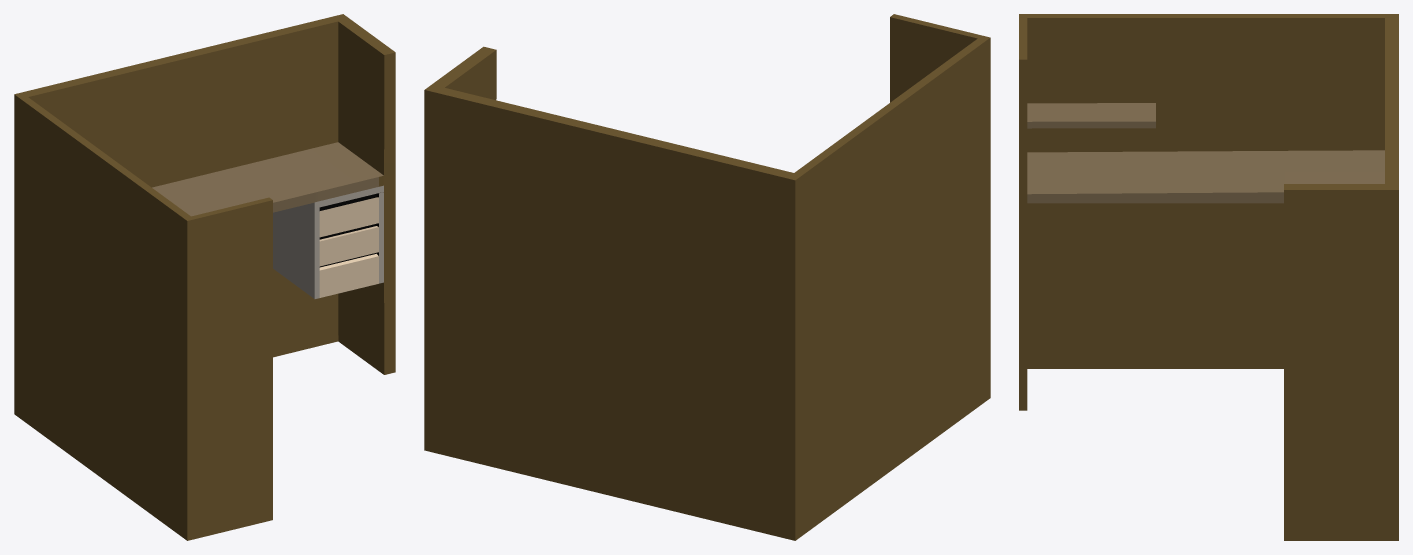
File: OfficeDesk.fbx
3 renders of one model, left to right at view 1: azimuth 30°, elevation 25°; view 2: azimuth 150°, elevation 25°; view 3: azimuth 270°, elevation 25°, orthographic. The views are drawn at different scales.
Visible parts, largest first — view 1: polySurface11, polySurface13, polySurface9, polySurface7, polySurface20, polySurface5, polySurface6, polySurface3; view 2: polySurface13, polySurface11, polySurface7, polySurface18, polySurface9; view 3: polySurface11, polySurface7, polySurface22, polySurface9, polySurface23, polySurface13.
Boxes of the visible parts, x1,y1,x2,y2 form: polySurface11: (20,97,190,537); polySurface13: (14,17,338,418); polySurface9: (183,197,272,540); polySurface7: (332,14,395,374); polySurface20: (152,142,383,216); polySurface5: (319,192,383,297); polySurface6: (273,202,314,298); polySurface3: (314,185,383,298); polySurface13: (437,88,802,540); polySurface11: (794,38,986,535); polySurface7: (424,46,496,453); polySurface18: (890,17,977,102); polySurface9: (890,14,990,400); polySurface11: (1027,14,1384,368); polySurface7: (1284,184,1398,540); polySurface22: (1027,150,1384,203); polySurface9: (1019,14,1027,410); polySurface23: (1027,103,1155,128); polySurface13: (1385,14,1398,183).
Bounding box in the file's own units: 2.22 × 2.06 × 2.02.
